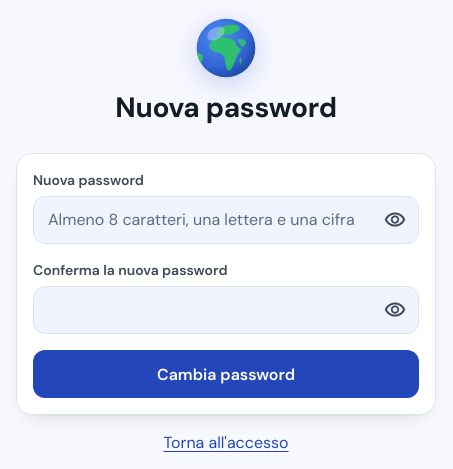
link scaduto o già usato: il messaggio del server e «Chiedi un nuovo link»
The width and height of the screenshot is (453, 469).
Type "nuova1234" into the password field labelled "Nuova password" at {"x": 226, "y": 220}, box [33, 196, 419, 244]
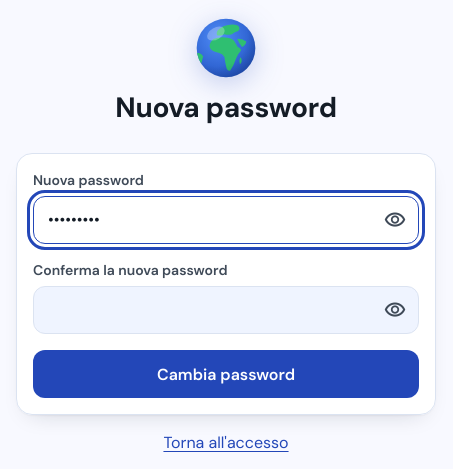
Type "nuova1234" into the password field labelled "Conferma la nuova password" at {"x": 226, "y": 310}, box [33, 286, 419, 334]
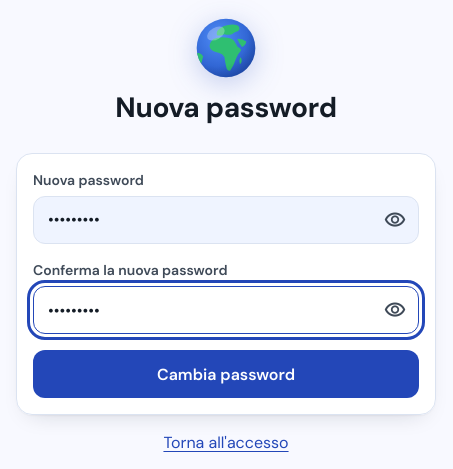
Click the button "Cambia password" at {"x": 226, "y": 374}, box [33, 350, 419, 398]
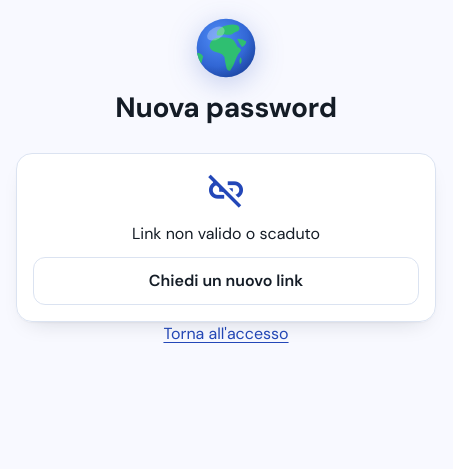
expect the text "Link non valido o scaduto" is shown: met, box [132, 222, 320, 245]
